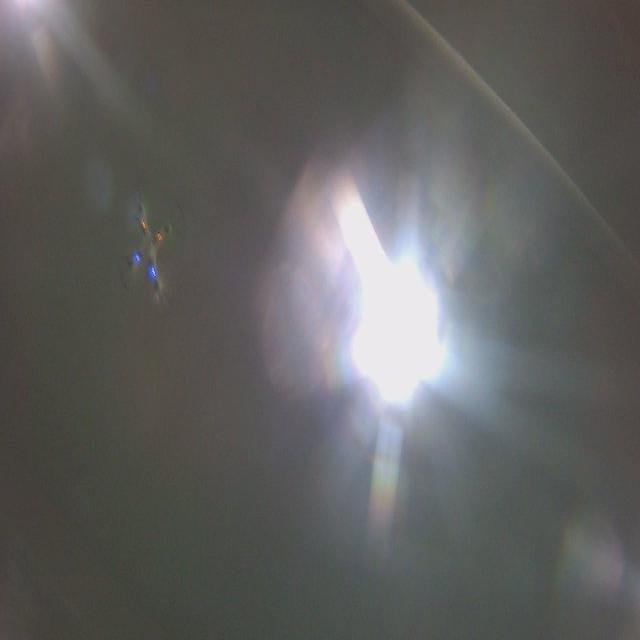drone: (117, 180, 188, 318)
